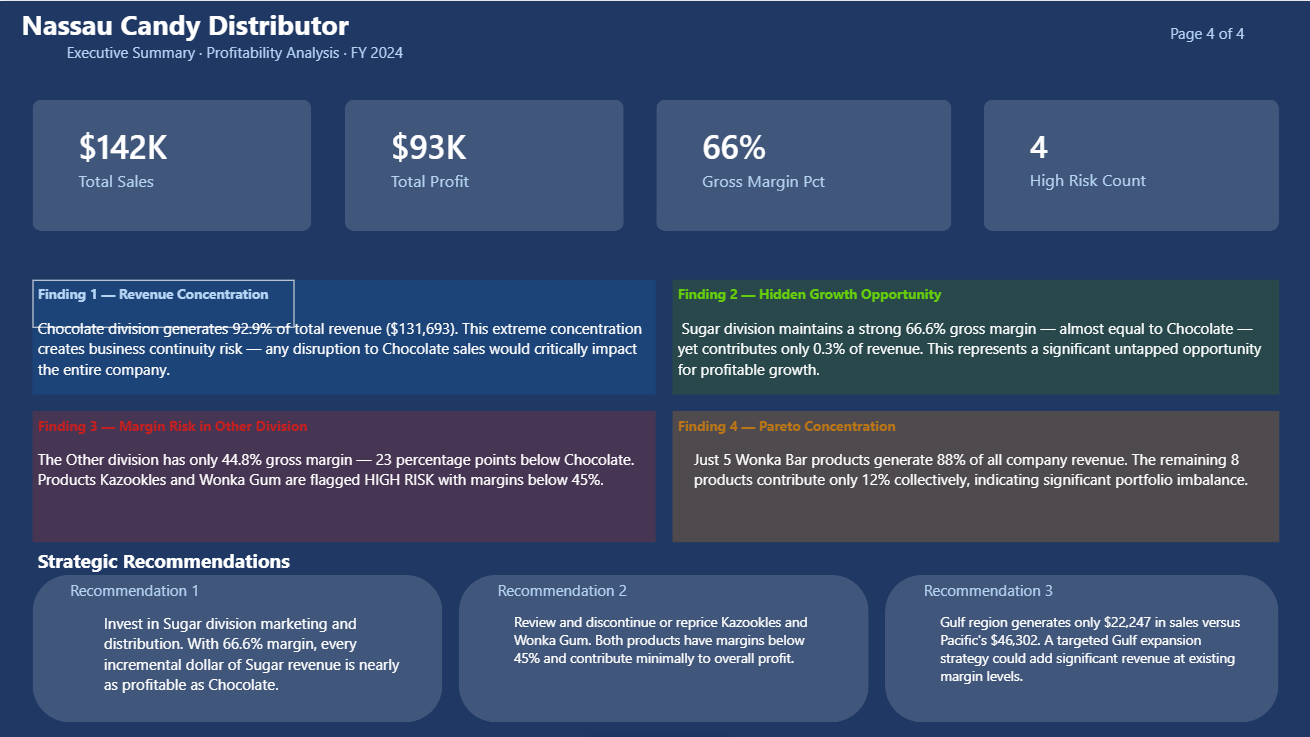

Layout of this report page (visuals, bound fields, positions):
{"tool":"powerbi","page":{"name":"Executive_Summary","canvas":[1280,720],"ordinal":3},"visuals":[{"type":"textbox","box":[16,0,528,80],"z":0},{"type":"textbox","box":[1136,16,128,48],"z":1000},{"type":"shape","box":[960,96,288,128],"z":2000},{"type":"shape","box":[336,96,272,128],"z":3000},{"type":"shape","box":[640,96,288,128],"z":4000},{"type":"shape","box":[32,96,272,128],"z":5000},{"type":"cardVisual","fields":{"Data":["2.Total Sales"]},"box":[48,96,240,112],"z":6000},{"type":"cardVisual","fields":{"Data":["2.Gross Margin Pct"]},"box":[656,96,256,112],"z":7000},{"type":"cardVisual","fields":{"Data":["2.Total Profit"]},"box":[352,96,240,112],"z":8000},{"type":"cardVisual","fields":{"Data":["2.High Risk Count"]},"box":[976,96,256,112],"z":9000},{"type":"shape","box":[32,272,608,112],"z":10000},{"type":"shape","box":[656,400,592,128],"z":11000},{"type":"shape","box":[32,400,608,128],"z":12000},{"type":"shape","box":[656,272,592,112],"z":13000},{"type":"textbox","box":[32,272,256,48],"z":14000},{"type":"textbox","box":[32,304,608,80],"z":15000},{"type":"textbox","box":[656,272,272,32],"z":16000},{"type":"textbox","box":[656,304,592,96],"z":17000},{"type":"textbox","box":[32,400,352,32],"z":18000},{"type":"textbox","box":[32,432,608,80],"z":19000},{"type":"textbox","box":[656,400,272,48],"z":20000},{"type":"textbox","box":[672,432,576,80],"z":21000},{"type":"textbox","box":[32,528,272,48],"z":22000},{"type":"shape","box":[32,560,400,144],"z":23000},{"type":"shape","box":[864,560,384,144],"z":24000},{"type":"shape","box":[448,560,400,144],"z":25000},{"type":"textbox","box":[64,560,304,32],"z":26000},{"type":"textbox","box":[96,592,304,112],"z":27000},{"type":"textbox","box":[480,560,160,48],"z":28000},{"type":"textbox","box":[496,592,304,80],"z":29000},{"type":"textbox","box":[896,560,160,48],"z":30000},{"type":"textbox","box":[912,592,304,96],"z":31000}]}

Visuals, with their boxes in screenshot pixels (x1, y1, x2, y2), scaled from the page's 1280x720 canvas onto the 1310x737 screenshot:
textbox: x1=16, y1=0, x2=557, y2=82
textbox: x1=1163, y1=16, x2=1294, y2=66
shape: x1=982, y1=98, x2=1277, y2=229
shape: x1=344, y1=98, x2=622, y2=229
shape: x1=655, y1=98, x2=950, y2=229
shape: x1=33, y1=98, x2=311, y2=229
cardVisual - 2.Total Sales: x1=49, y1=98, x2=295, y2=213
cardVisual - 2.Gross Margin Pct: x1=671, y1=98, x2=933, y2=213
cardVisual - 2.Total Profit: x1=360, y1=98, x2=606, y2=213
cardVisual - 2.High Risk Count: x1=999, y1=98, x2=1261, y2=213
shape: x1=33, y1=278, x2=655, y2=393
shape: x1=671, y1=409, x2=1277, y2=540
shape: x1=33, y1=409, x2=655, y2=540
shape: x1=671, y1=278, x2=1277, y2=393
textbox: x1=33, y1=278, x2=295, y2=328
textbox: x1=33, y1=311, x2=655, y2=393
textbox: x1=671, y1=278, x2=950, y2=311
textbox: x1=671, y1=311, x2=1277, y2=409
textbox: x1=33, y1=409, x2=393, y2=442
textbox: x1=33, y1=442, x2=655, y2=524
textbox: x1=671, y1=409, x2=950, y2=459
textbox: x1=688, y1=442, x2=1277, y2=524
textbox: x1=33, y1=540, x2=311, y2=590
shape: x1=33, y1=573, x2=442, y2=721
shape: x1=884, y1=573, x2=1277, y2=721
shape: x1=458, y1=573, x2=868, y2=721
textbox: x1=66, y1=573, x2=377, y2=606
textbox: x1=98, y1=606, x2=409, y2=721
textbox: x1=491, y1=573, x2=655, y2=622
textbox: x1=508, y1=606, x2=819, y2=688
textbox: x1=917, y1=573, x2=1081, y2=622
textbox: x1=933, y1=606, x2=1244, y2=704
